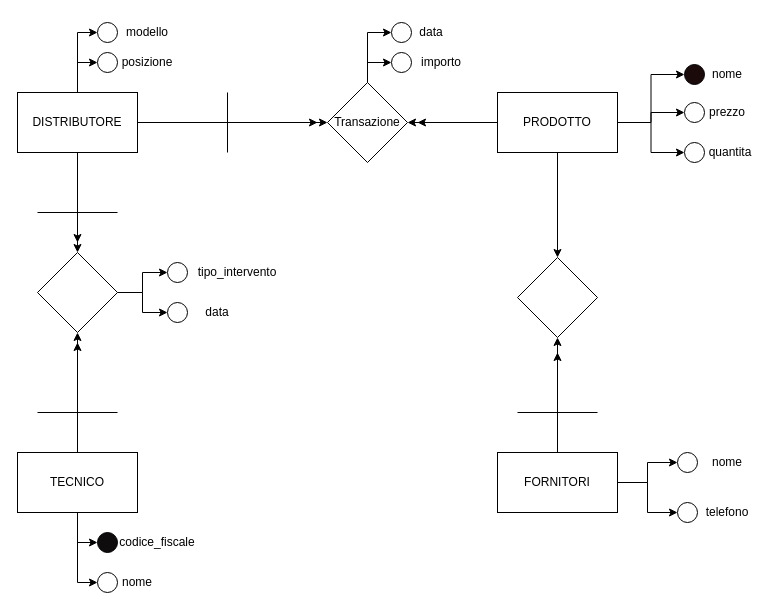
Image size: 778x614. Some labels were removed from this diagram. Each missing label, with the centre of its shape:
Effettua: the point at 77,292
Fornisce: the point at 557,297
